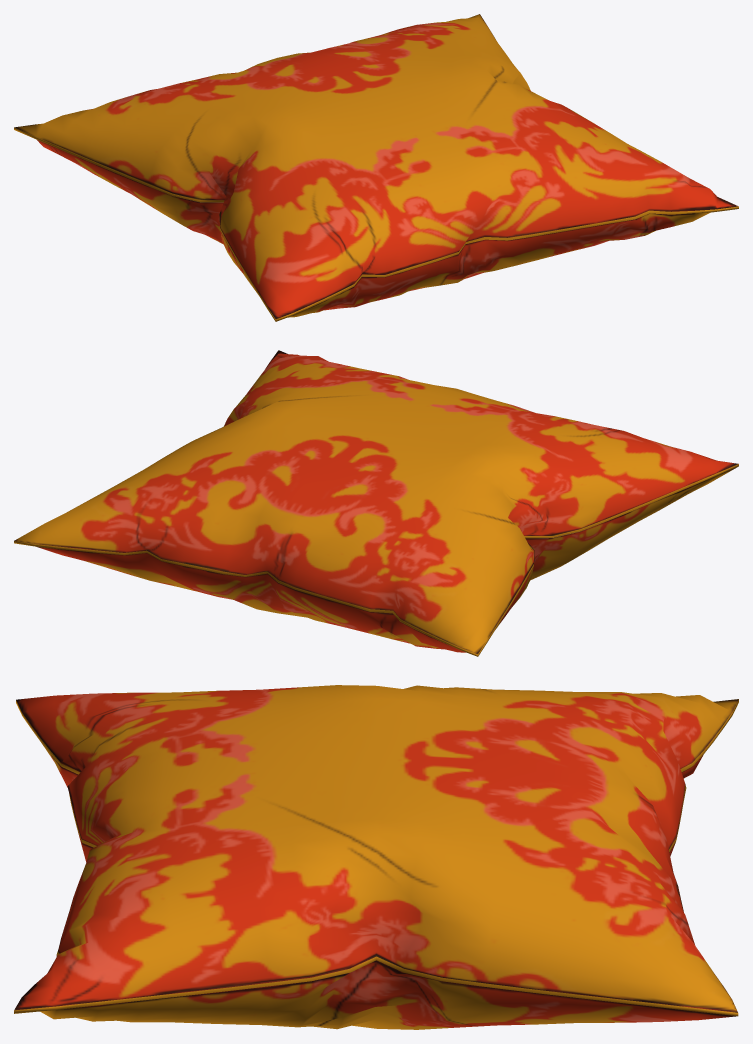
The model's file is kussens.glb.
The picture shows the model from 3 angles, top to bottom: view 1: azimuth 30°, elevation 25°; view 2: azimuth 150°, elevation 25°; view 3: azimuth 270°, elevation 25°; orthographic projection. The views are drawn at different scales.
Visible parts, largest first — view 1: kussen 1; view 2: kussen 1; view 3: kussen 1.
Boxes of the visible parts, x1,y1,x2,y2 form: kussen 1: (14,14,738,321); kussen 1: (14,350,738,656); kussen 1: (14,685,738,1029).
Bounding box in the file's own units: 0.5455 × 0.1599 × 0.5325.
Materials: 1 (1 with a texture image).
